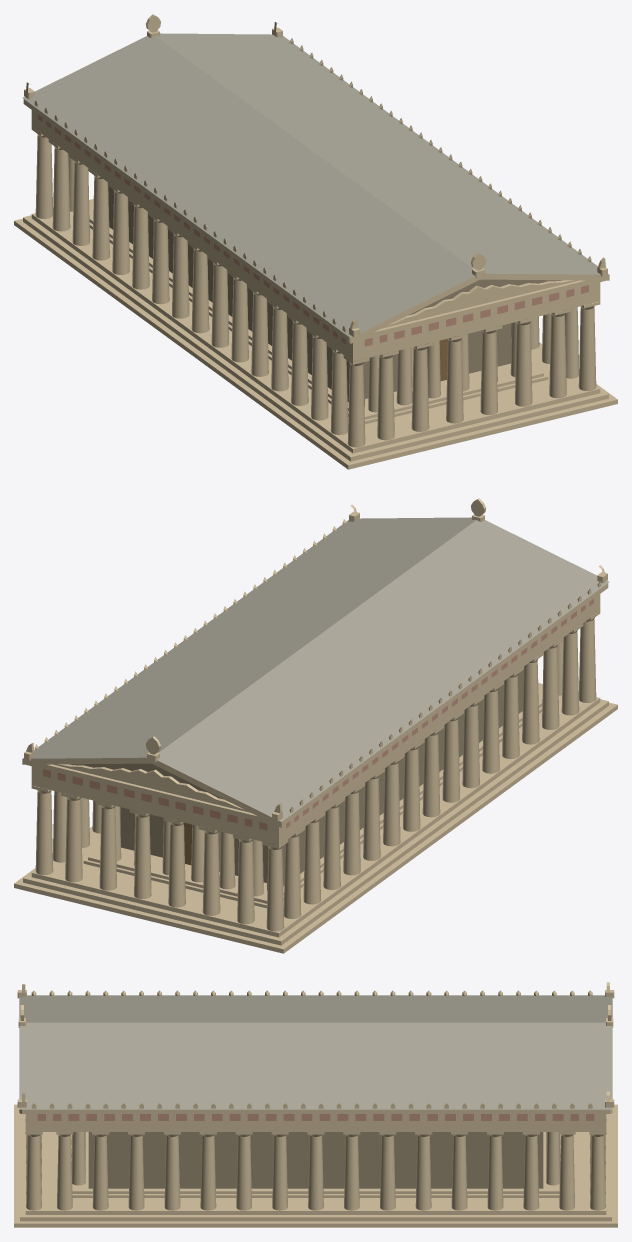
The model's file is nash-parthenon.glb.
3 views of the same model, one above another, from view 1: azimuth 30°, elevation 25°; view 2: azimuth 150°, elevation 25°; view 3: azimuth 270°, elevation 25° (orthographic). The views are drawn at different scales.
Visible parts, largest first — view 1: The Parthenon (Nashville); view 2: The Parthenon (Nashville); view 3: The Parthenon (Nashville).
Part boxes in pixels (left/top/right/bottom): The Parthenon (Nashville): left=14, top=14, right=617, bottom=469; The Parthenon (Nashville): left=14, top=498, right=617, bottom=953; The Parthenon (Nashville): left=14, top=982, right=617, bottom=1227.
Size of the model in its own units: 33.68 by 21.56 by 72.3.
